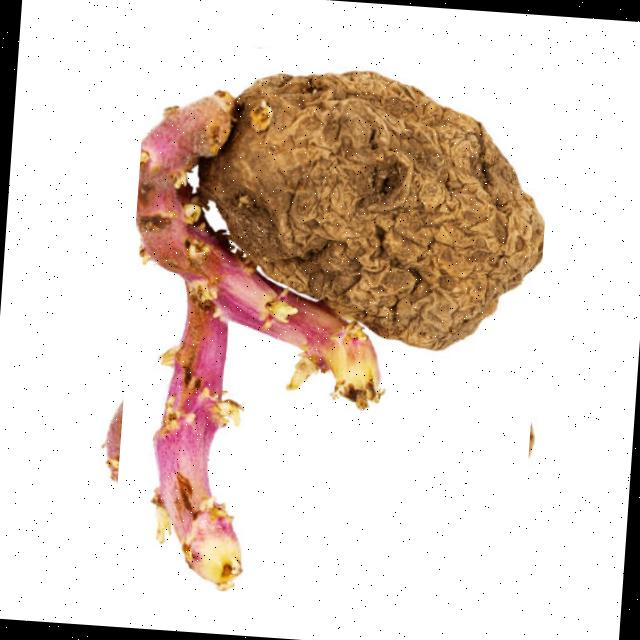Sprouted potato: (110, 41, 555, 612)
